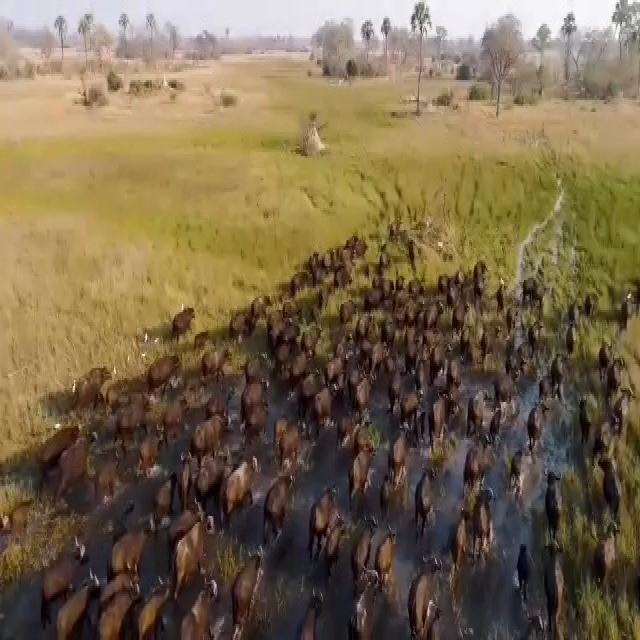Buffalo: (412, 550, 451, 640), (55, 561, 99, 640), (171, 506, 206, 588), (179, 574, 221, 640), (41, 547, 87, 607), (542, 536, 570, 628), (59, 413, 87, 503), (262, 469, 302, 531), (406, 460, 441, 530), (234, 550, 264, 628), (114, 516, 148, 583), (99, 581, 137, 640), (346, 576, 381, 640), (599, 459, 634, 520), (158, 458, 186, 532), (140, 564, 167, 640), (74, 359, 114, 405), (375, 528, 402, 594), (193, 403, 230, 449), (148, 356, 186, 398), (492, 270, 524, 319), (474, 386, 502, 442), (299, 580, 323, 640), (239, 403, 279, 439), (270, 303, 297, 356), (399, 302, 427, 353), (311, 482, 334, 544), (391, 423, 411, 494), (116, 396, 143, 448), (478, 473, 498, 543), (229, 456, 254, 511), (367, 332, 396, 379), (448, 510, 472, 566), (284, 348, 314, 391), (596, 529, 618, 587), (353, 516, 377, 568), (237, 305, 264, 350), (336, 404, 373, 436), (322, 349, 345, 398), (462, 442, 484, 492), (431, 379, 452, 431), (352, 447, 374, 493), (445, 302, 474, 335), (516, 435, 534, 488), (533, 379, 547, 447), (206, 339, 232, 375), (545, 480, 569, 518), (245, 376, 269, 409), (346, 234, 364, 277), (282, 422, 300, 464), (340, 292, 360, 328), (607, 369, 625, 408), (406, 373, 424, 411), (175, 304, 196, 334), (317, 390, 334, 423), (351, 383, 373, 407), (474, 265, 484, 312), (324, 260, 348, 279)
